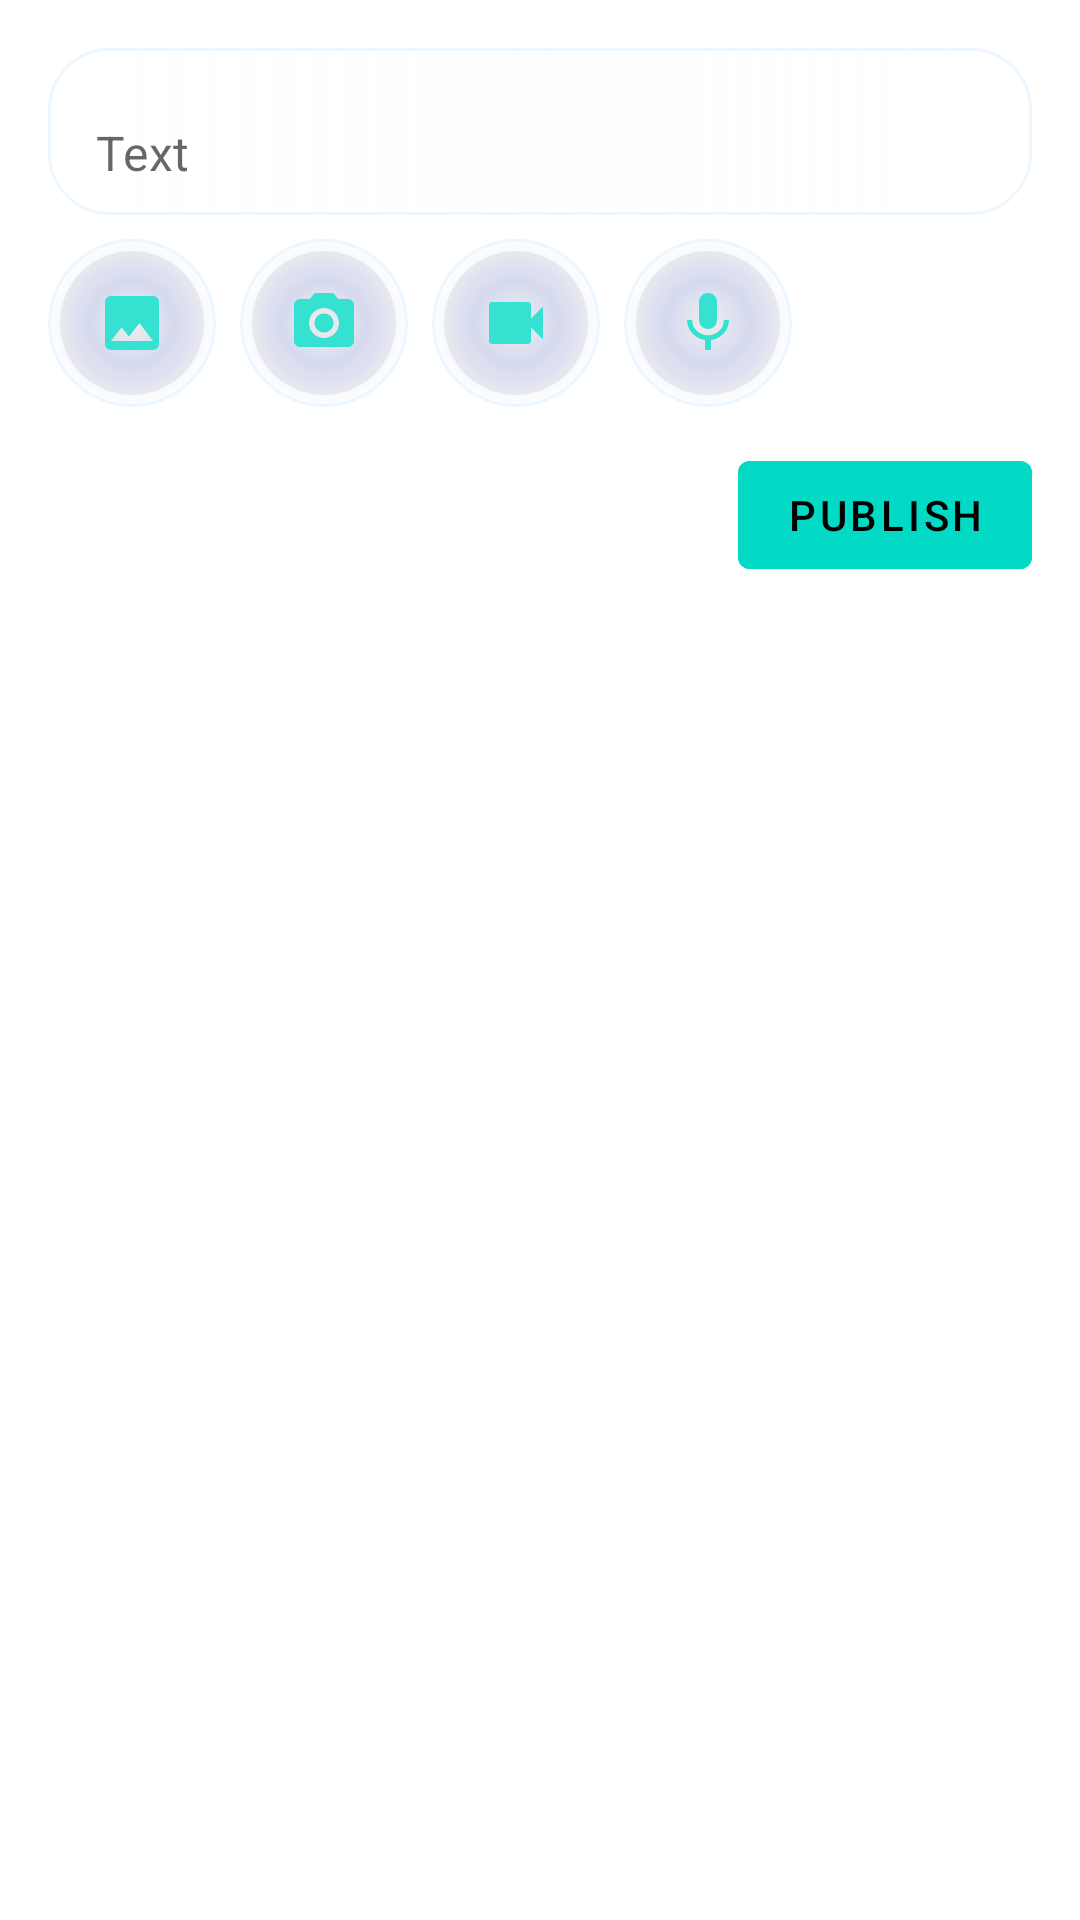

Point at icon controls on the screen. Image size 1080×1920, points as (x=x, y=y).
mic: (x=708, y=323)
photo camera: (x=324, y=323)
videocam: (x=516, y=323)
